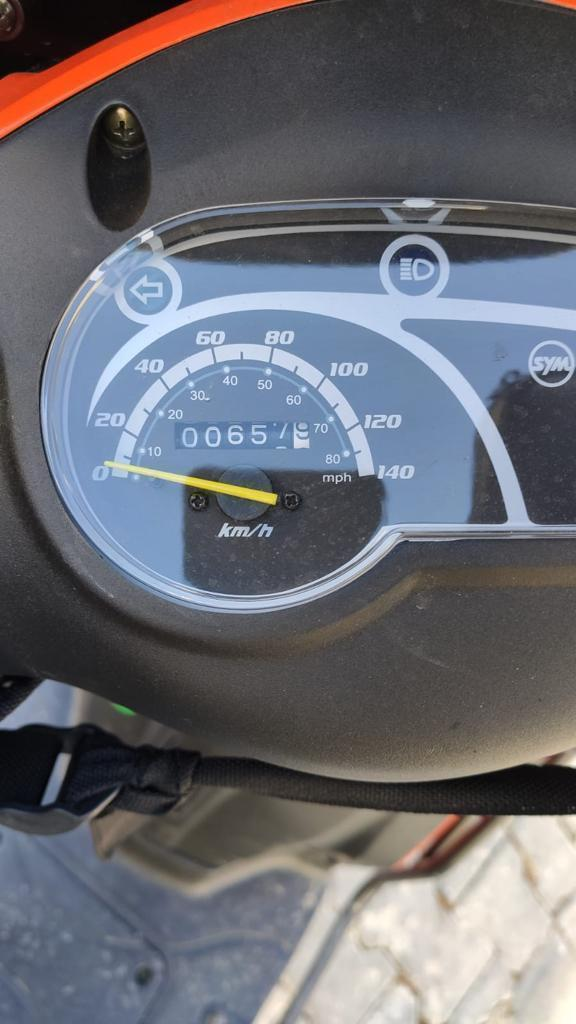0: (182, 426, 197, 448), (205, 426, 220, 447)
5: (251, 424, 266, 445)
6: (227, 424, 243, 444)
7: (271, 420, 288, 439)
9: (295, 420, 309, 439)
odometer: (172, 419, 314, 452)
